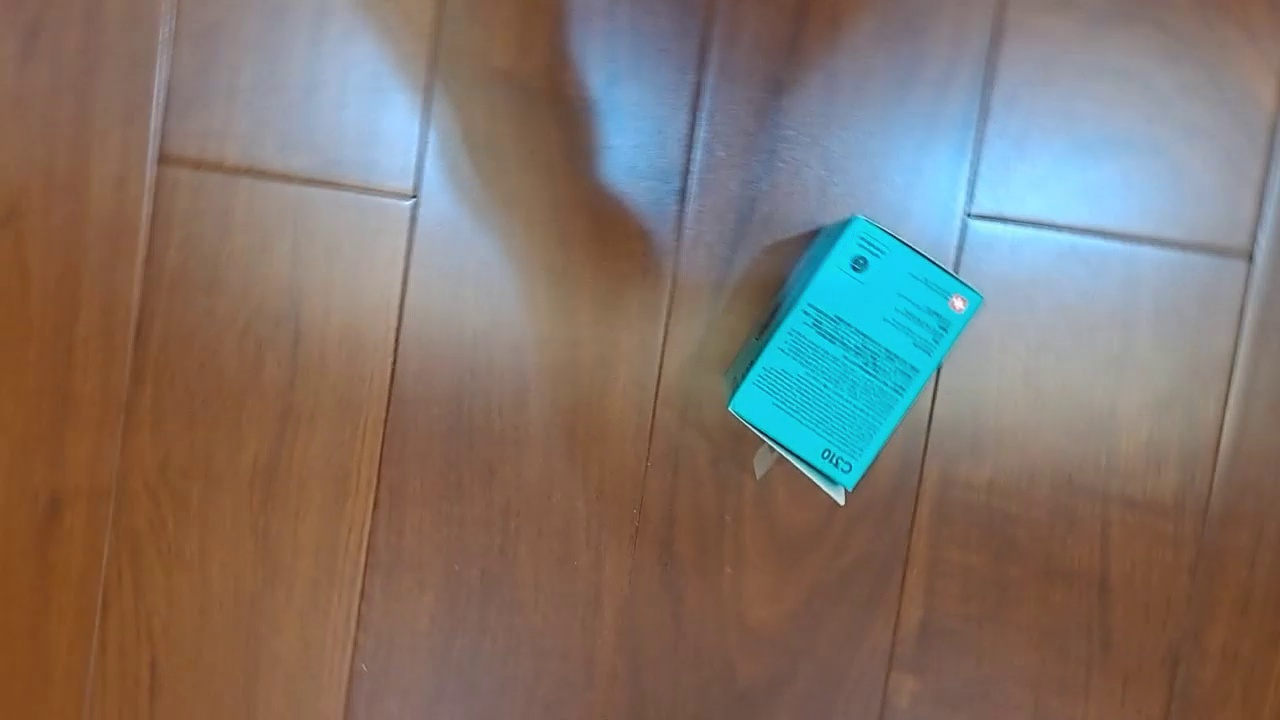webcam: (723, 213, 985, 506)
